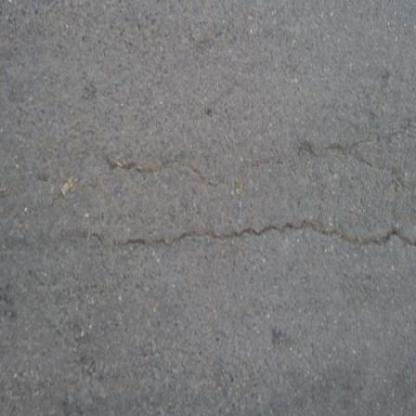Cracks: (2, 184, 416, 281), (294, 101, 416, 204), (81, 128, 238, 199)
